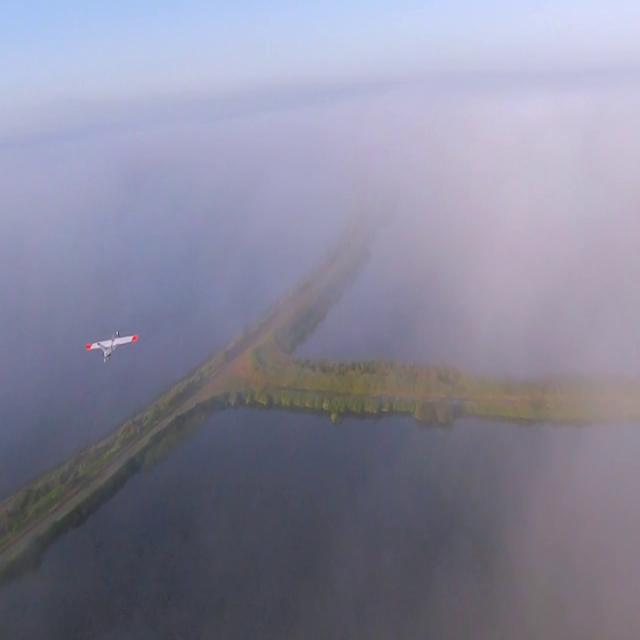iha: (21, 327, 77, 365)
